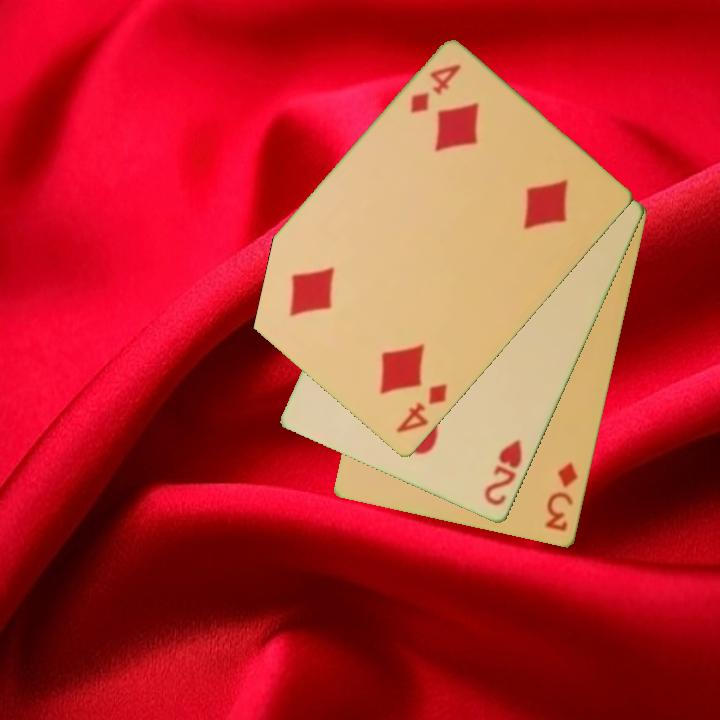2h: (480, 436, 526, 510)
3d: (541, 460, 582, 535)
4d: (392, 380, 450, 437), (406, 61, 464, 118)
